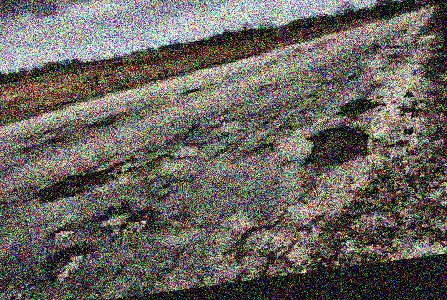pothole: (29, 153, 139, 203), (303, 121, 376, 169), (91, 201, 155, 240), (41, 244, 95, 286), (334, 94, 384, 118), (49, 225, 78, 239)
